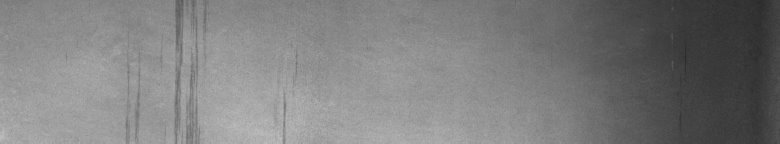ka: (126, 4, 208, 136)
